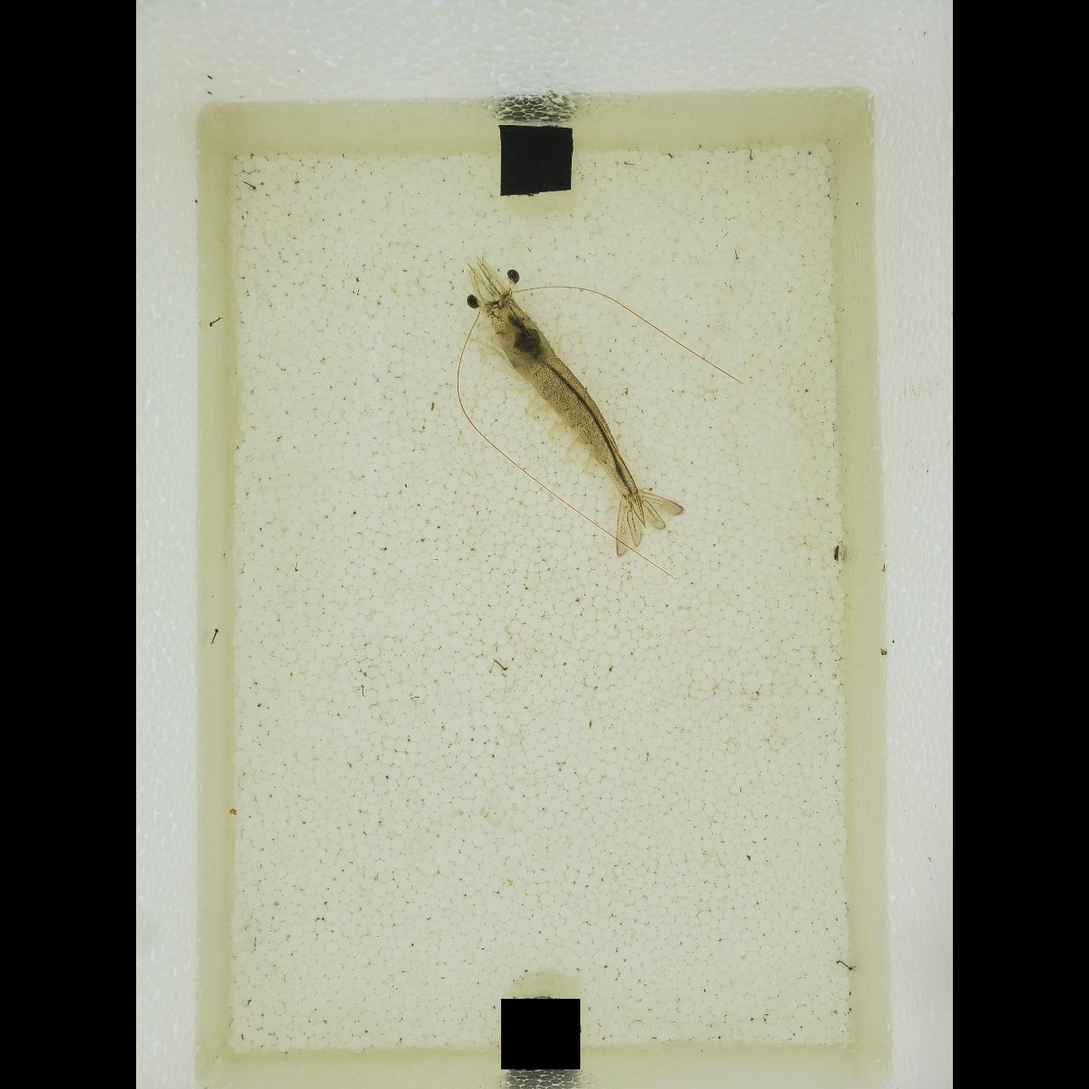box: (500, 997, 580, 1073), (499, 124, 574, 197)
top_shrimp: (487, 297, 646, 526)
